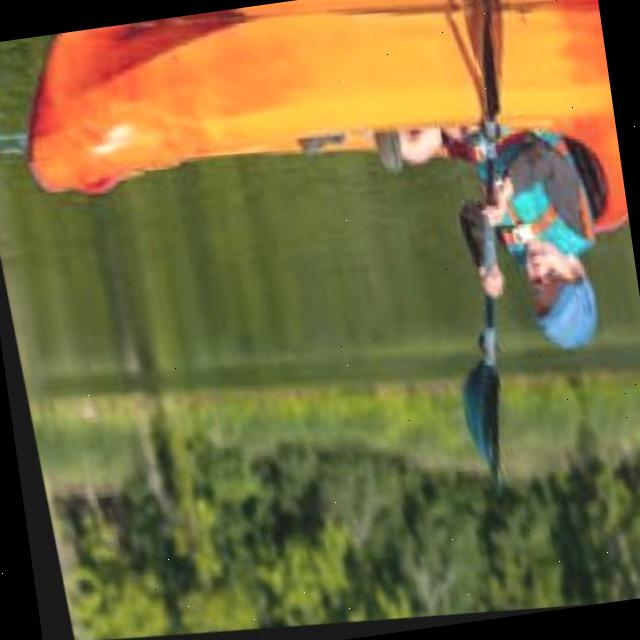kayak: (27, 4, 628, 242), (27, 11, 481, 200), (491, 4, 628, 230)
